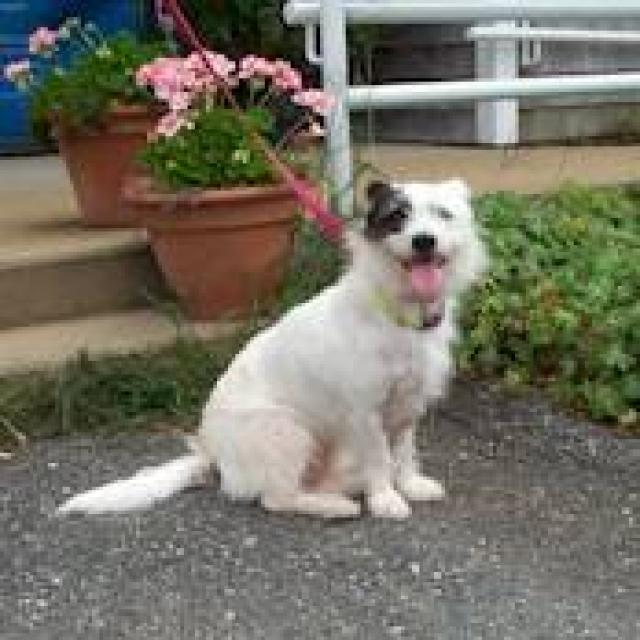dog: (52, 174, 489, 520)
